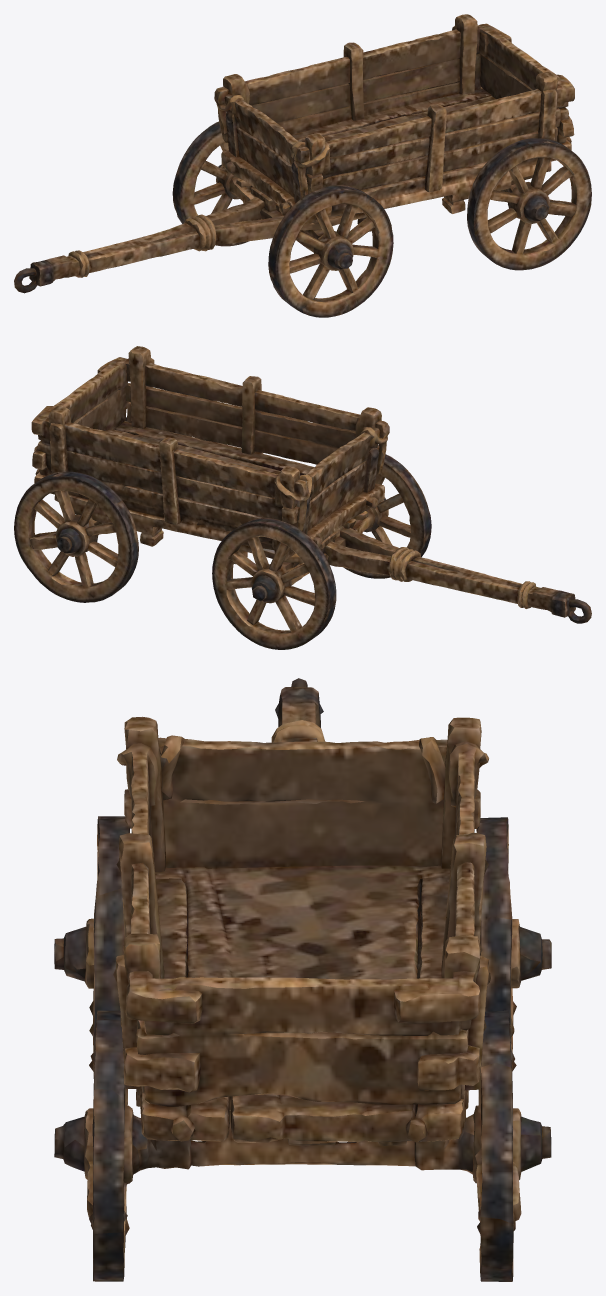
File: wagon_lite.glb
The picture shows the model from 3 angles, top to bottom: view 1: azimuth 30°, elevation 25°; view 2: azimuth 150°, elevation 25°; view 3: azimuth 270°, elevation 25°; orthographic projection. The views are drawn at different scales.
Visible parts, largest first — view 1: geometry_0; view 2: geometry_0; view 3: geometry_0.
Part boxes in pixels (x1,y1,x2,y2): geometry_0: (14, 14, 591, 317); geometry_0: (14, 346, 591, 649); geometry_0: (54, 678, 551, 1281).
Bounding box in the file's own units: 1.9 × 0.6182 × 0.7811.
1 material, 1 textured.
